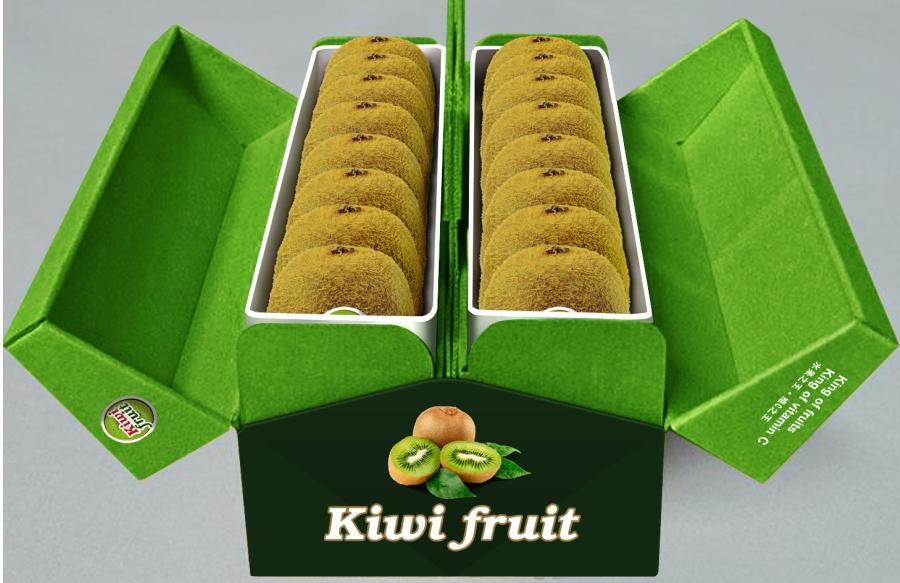apple: (411, 406, 474, 448)
